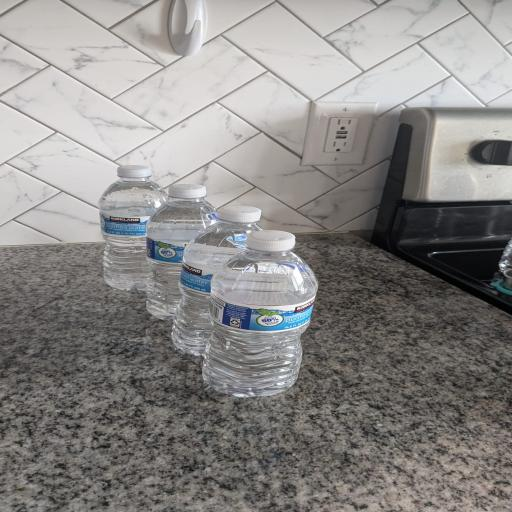waterbottle: (203, 231, 317, 396), (172, 206, 260, 355), (147, 185, 217, 319), (99, 166, 167, 291), (499, 240, 511, 276)
